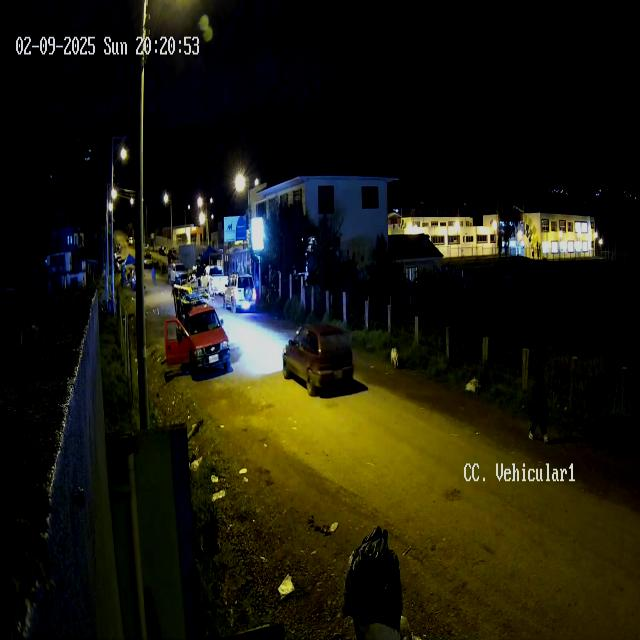SED: (280, 320, 356, 398)
